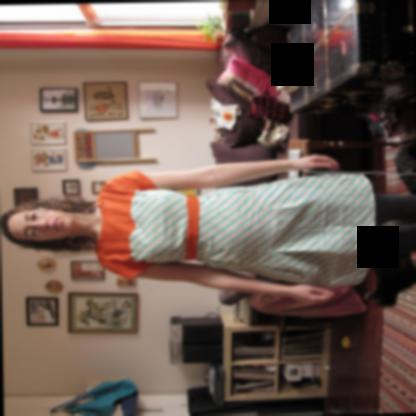handbag: (49, 377, 138, 416), (255, 115, 289, 149)
